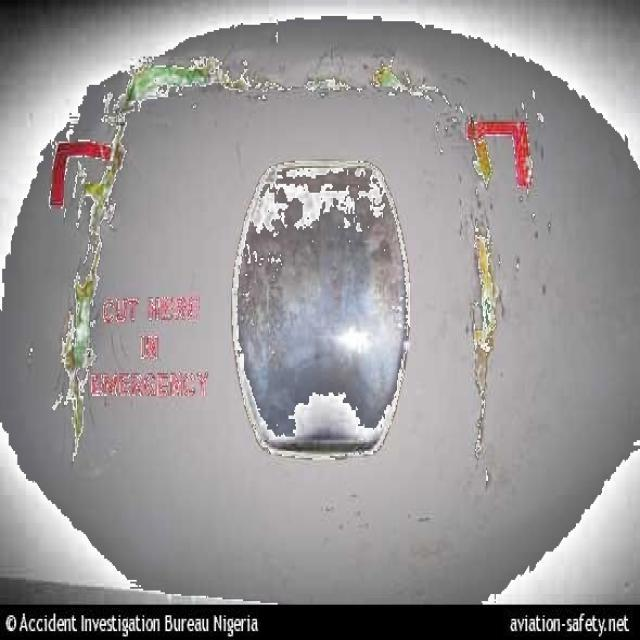crack: (53, 95, 134, 461), (123, 61, 451, 107), (470, 218, 503, 466), (471, 136, 494, 196)
